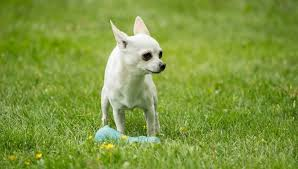chihuahua: (73, 8, 182, 159)
